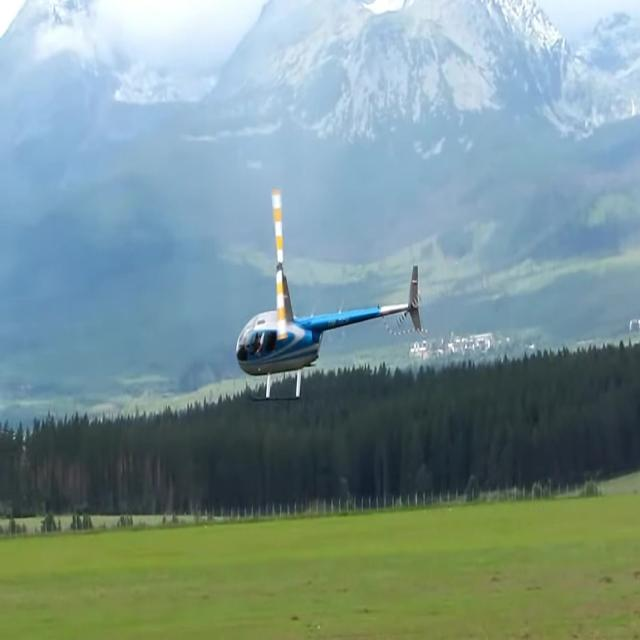CIV_HELO: (234, 261, 423, 402)
